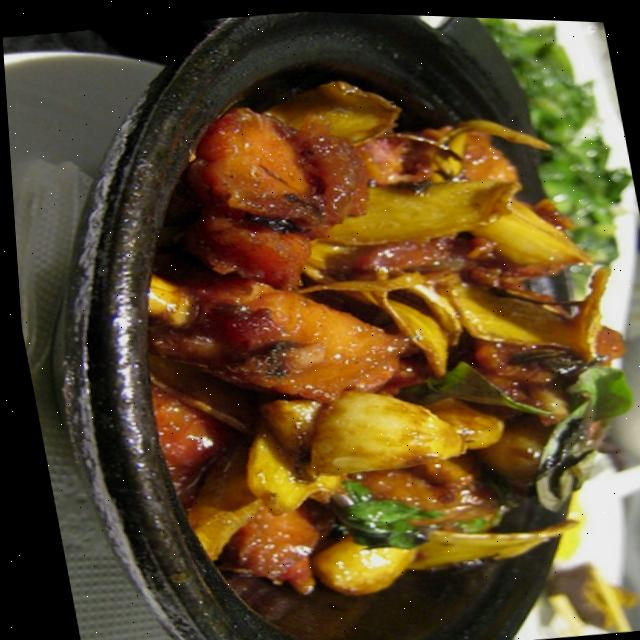鸡肉料理 含炸鸡: (10, 0, 640, 640)
